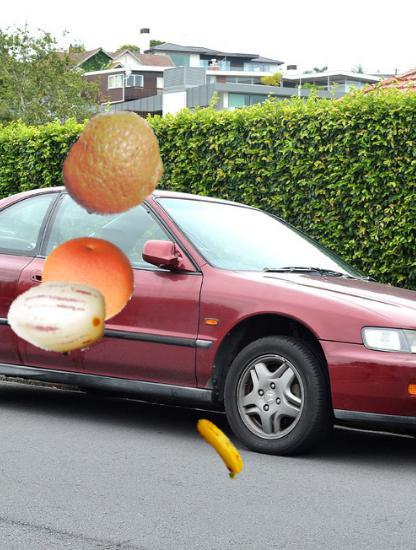Banana: (185, 413, 255, 483)
Grapefruit: (41, 232, 135, 326)
Mandarine: (59, 109, 171, 221)
Pepino: (8, 268, 110, 370)
